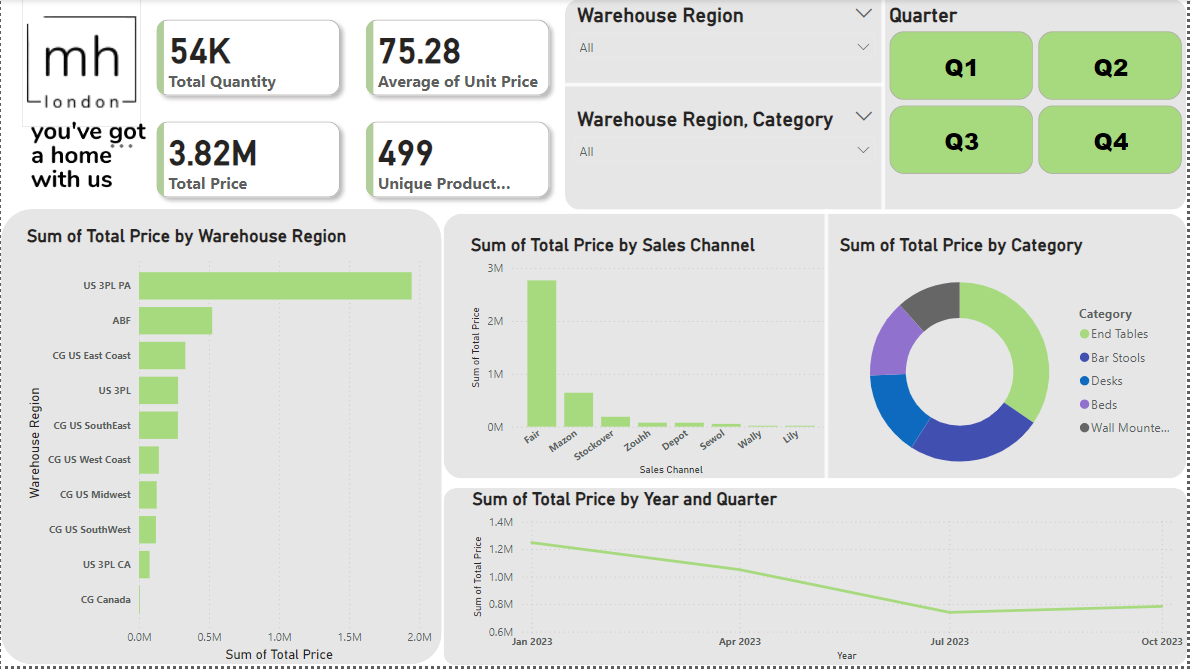

What the dashboard file says about the page in this screenshot:
{"tool":"powerbi","page":{"name":"Page 1","canvas":[1280,720],"ordinal":0},"visuals":[{"type":"shape","box":[0,227.4,475.7,491.6],"z":0,"group":"g1"},{"type":"shape","box":[477.7,528.6,802.6,191.7],"z":0},{"type":"group","id":"g1","title":"Group 1","box":[0,227.4,475.7,491.6],"z":1000},{"type":"shape","box":[478.1,232.3,802.2,286.1],"z":2000},{"type":"shape","box":[609.5,0,670.8,227.6],"z":3000},{"type":"lineChart","fields":{"Y":["Sum(Sheet1 (2).Total Price)"],"Category":["Sheet1.Date.Variation.Date Hierarchy.Year","Sheet1.Date.Variation.Date Hierarchy.Quarter"]},"box":[503.1,528.6,777.2,191.7],"z":4000},{"type":"columnChart","fields":{"Category":["Sheet1 (2).Sales Channel"],"Y":["Sum(Sheet1 (2).Total Price)"]},"box":[502.6,254.3,397.4,264.1],"z":5000},{"type":"barChart","fields":{"Category":["Sheet1 (2).Warehouse Region"],"Y":["Sum(Sheet1 (2).Total Price)"]},"box":[22,244.6,447.6,475.7],"z":6000},{"type":"donutChart","fields":{"Category":["SKU Details.Category"],"Y":["Sum(Raw Sales.Total Price)"]},"box":[900,254.6,380.3,274],"z":7000},{"type":"cardVisual","fields":{"Data":["Sum(Raw Sales.Quantity)","Avg(Raw Sales.Per Unit Price)","Sum(Raw Sales.Total Price)","Count(SKU Details.SKU)"]},"box":[150.4,4.9,458.6,227.4],"z":8000},{"type":"slicer","fields":{"Values":["Raw Sales.Warehouse Region"]},"box":[609.5,0,344.4,88.3],"z":9000},{"type":"slicer","fields":{"Values":["Raw Sales.Warehouse Region","SKU Details.Category"]},"box":[609.5,112.3,344.4,80.9],"z":10000},{"type":"advancedSlicerVisual","fields":{"Values":["Date Calender.Quarter"]},"box":[953.9,4.5,326.4,188.7],"z":11000},{"type":"shape","box":[609,73.4,344.8,39.1],"z":12000},{"type":"shape","box":[926.9,0,52.4,227.6],"z":13000},{"type":"image","box":[22,0,128.4,137],"z":13001},{"type":"image","box":[22,94.2,144.3,150.4],"z":13002},{"type":"shape","box":[864.5,227.4,52.6,291],"z":13003}]}

Visuals, with their boxes in screenshot pixels (x1, y1, x2, y2), scaled from the page's 1280x720 canvas onto the 1191x670 screenshot:
shape: BBox(0, 212, 443, 669)
shape: BBox(444, 492, 1190, 669)
"Group 1" group: BBox(0, 212, 443, 669)
shape: BBox(445, 216, 1190, 482)
shape: BBox(567, 0, 1190, 212)
lineChart - Sum(Sheet1 (2).Total Price) x Sheet1.Date.Variation.Date Hierarchy.Year: BBox(468, 492, 1190, 669)
columnChart - Sheet1 (2).Sales Channel x Sum(Sheet1 (2).Total Price): BBox(468, 237, 837, 482)
barChart - Sheet1 (2).Warehouse Region x Sum(Sheet1 (2).Total Price): BBox(20, 228, 437, 669)
donutChart - SKU Details.Category x Sum(Raw Sales.Total Price): BBox(837, 237, 1190, 492)
cardVisual - Sum(Raw Sales.Quantity) x Avg(Raw Sales.Per Unit Price): BBox(140, 5, 567, 216)
slicer - Raw Sales.Warehouse Region: BBox(567, 0, 888, 82)
slicer - Raw Sales.Warehouse Region x SKU Details.Category: BBox(567, 105, 888, 180)
advancedSlicerVisual - Date Calender.Quarter: BBox(888, 4, 1190, 180)
shape: BBox(567, 68, 887, 105)
shape: BBox(862, 0, 911, 212)
image: BBox(20, 0, 140, 127)
image: BBox(20, 88, 155, 228)
shape: BBox(804, 212, 853, 482)
